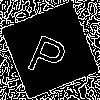P: (25, 25, 73, 80)
